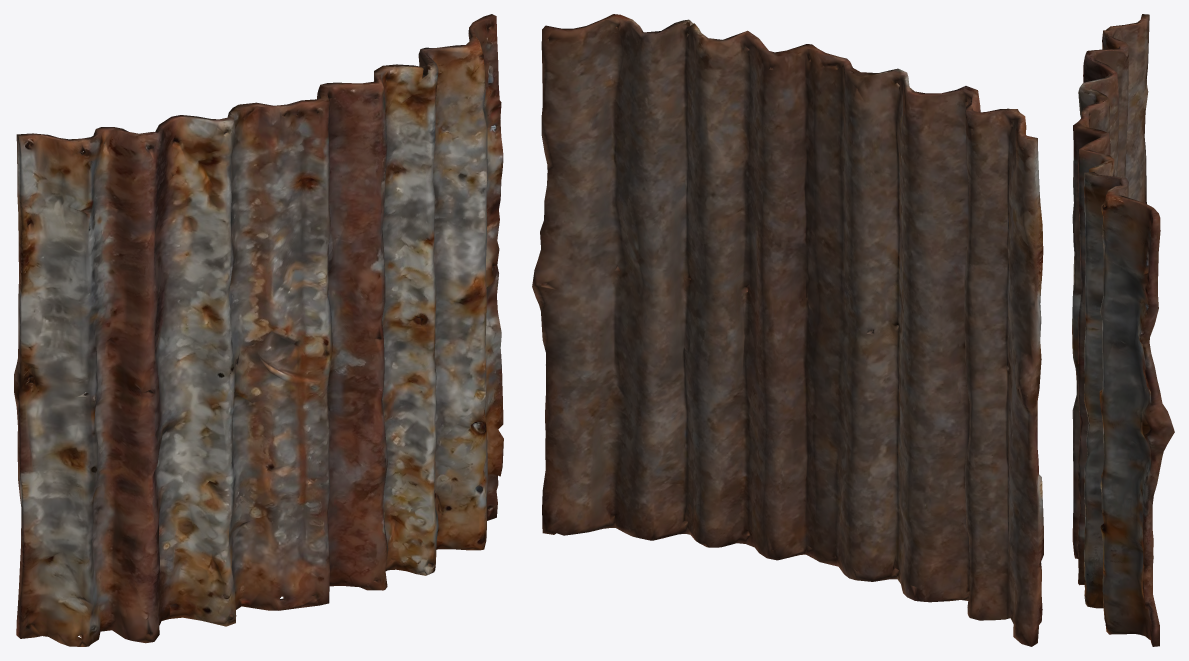
Rendered from tripo_convert_e4146a48-1d3b-424f-b312-cc978da574ad.fbx.
3 renders of one model, left to right at view 1: azimuth 30°, elevation 25°; view 2: azimuth 150°, elevation 25°; view 3: azimuth 270°, elevation 25°, orthographic. The views are drawn at different scales.
Visible parts, largest first — view 1: tripo_node_e4146a48; view 2: tripo_node_e4146a48; view 3: tripo_node_e4146a48.
Boxes of the visible parts, x1=… form: tripo_node_e4146a48: x1=14, y1=14, x2=503, y2=646; tripo_node_e4146a48: x1=532, y1=14, x2=1043, y2=646; tripo_node_e4146a48: x1=1072, y1=14, x2=1174, y2=646.
Bounding box in the file's own units: 1 × 0.9999 × 0.2136.
1 material, 1 textured.
